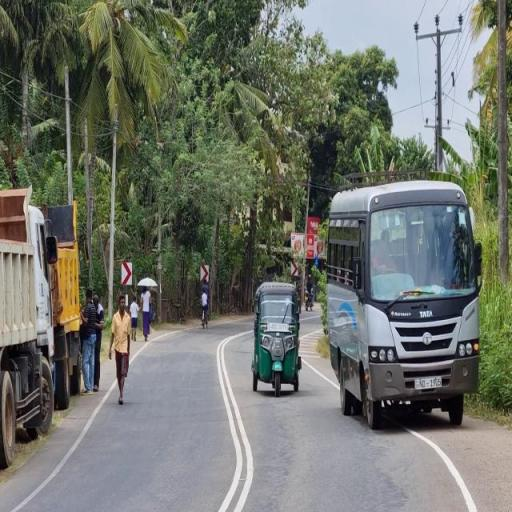double_white_line: (211, 329, 254, 512)
